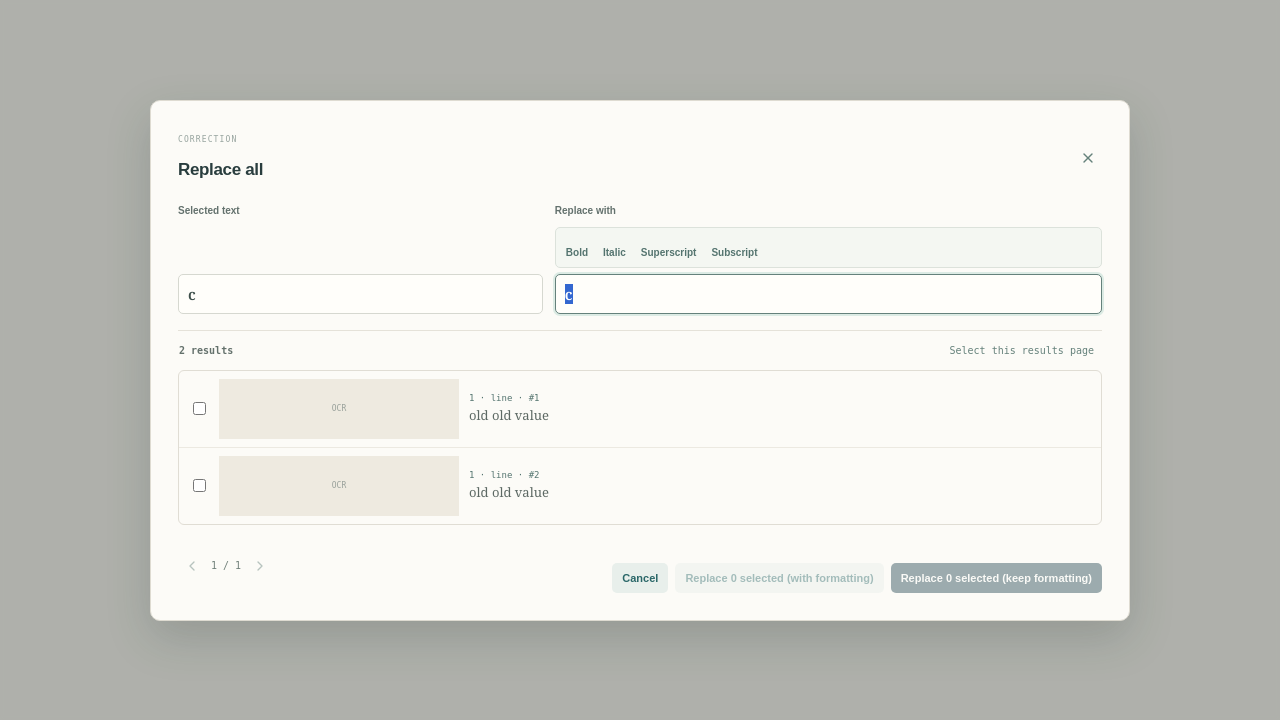
Scenario: BulkReplaceDialog › shows shortcut keys above the unchanged button labels
Expected: the element with class "bulk-toolbar-slot" is shown, [555, 222, 1102, 274]
Press Control in the 2nd field, box [555, 274, 1102, 314]
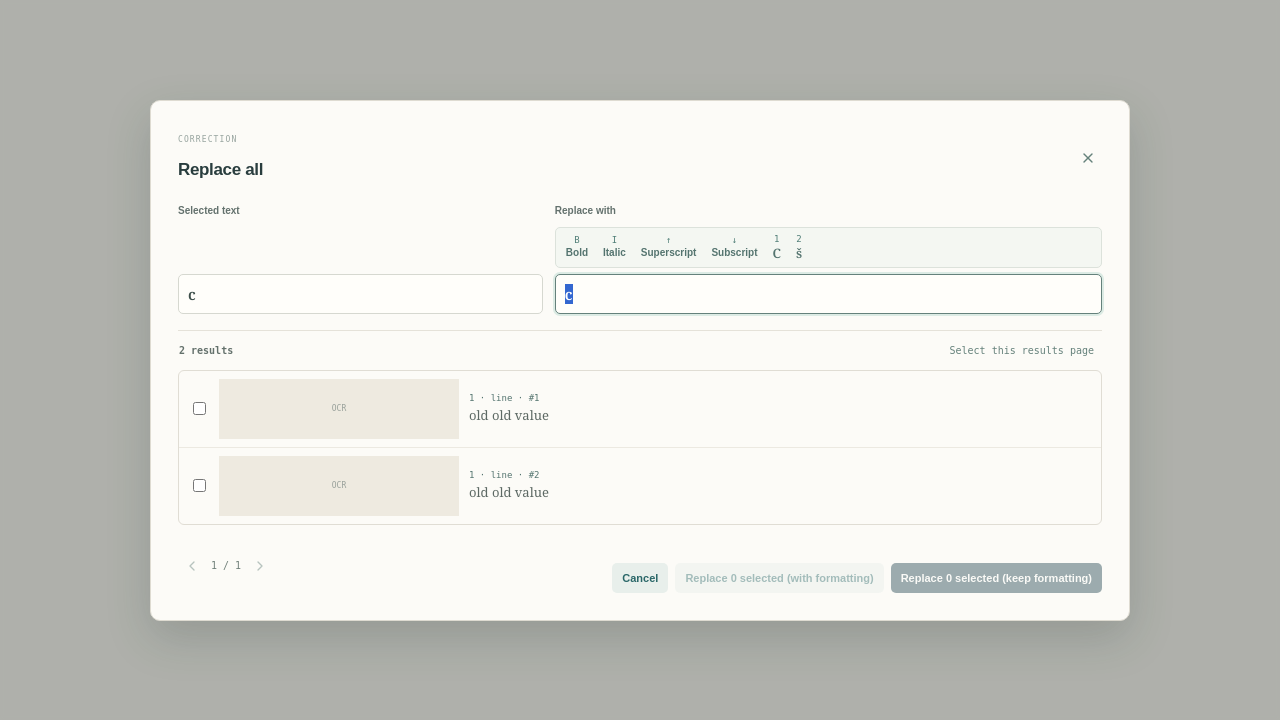
Expected: the text with class "edit-toolbar-label" reads "Bold", [566, 248, 588, 258]
Now the text with class "edit-toolbar-shortcut" reads "B", box [574, 236, 580, 246]
Now the text with class "edit-toolbar-shortcut" reads "1", box [774, 234, 779, 244]
Click the button with aria-label "Bold": (577,247) [560, 232, 594, 263]
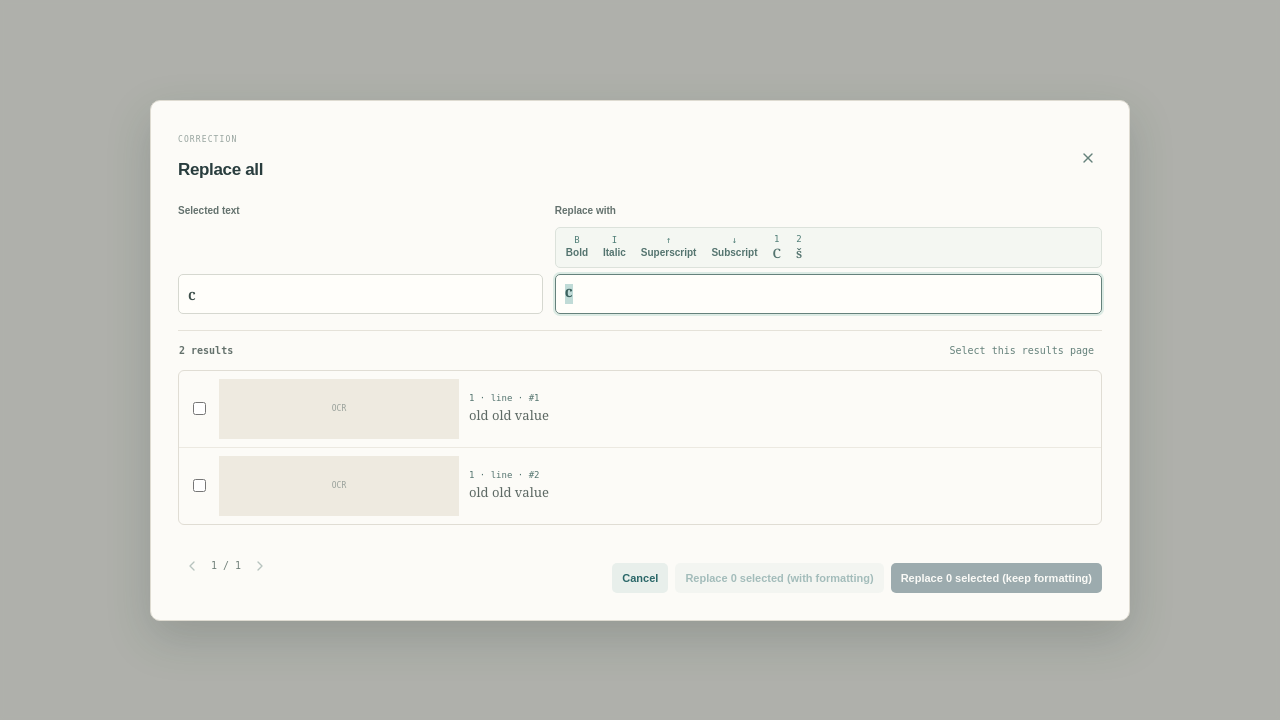
Now the text with class "formatted-edit-decoration" reads "c", box [565, 281, 573, 301]
